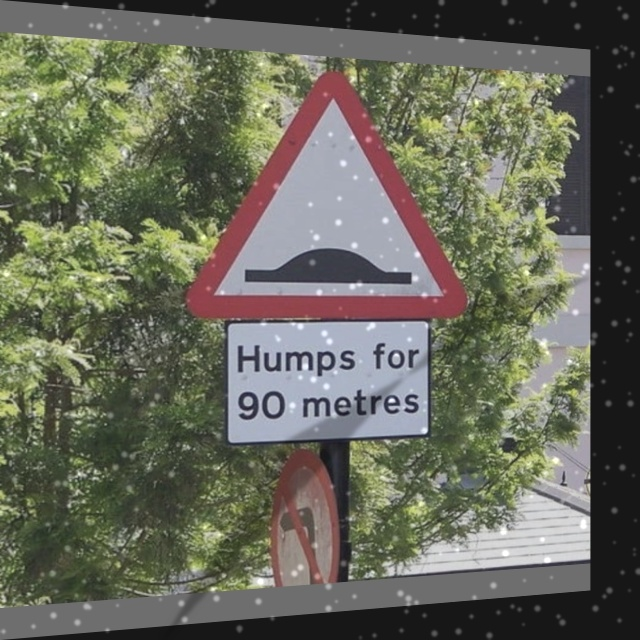Hump_or_Rough_Road: (198, 65, 452, 315)
